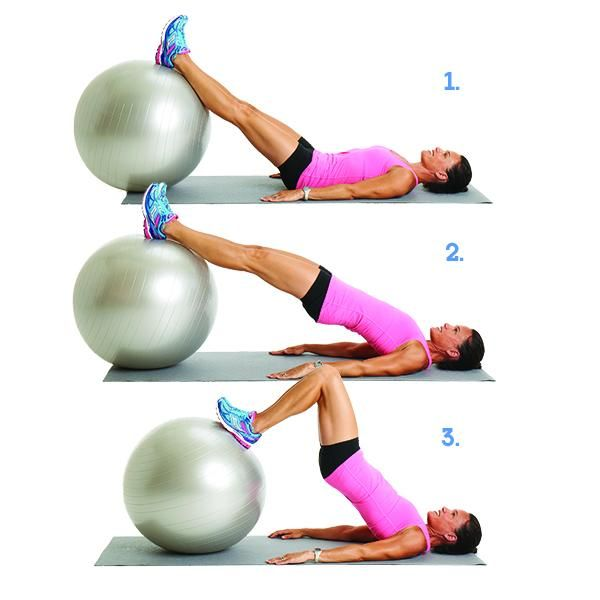yogaball: (118, 413, 270, 557), (65, 234, 220, 373), (68, 56, 212, 197)
